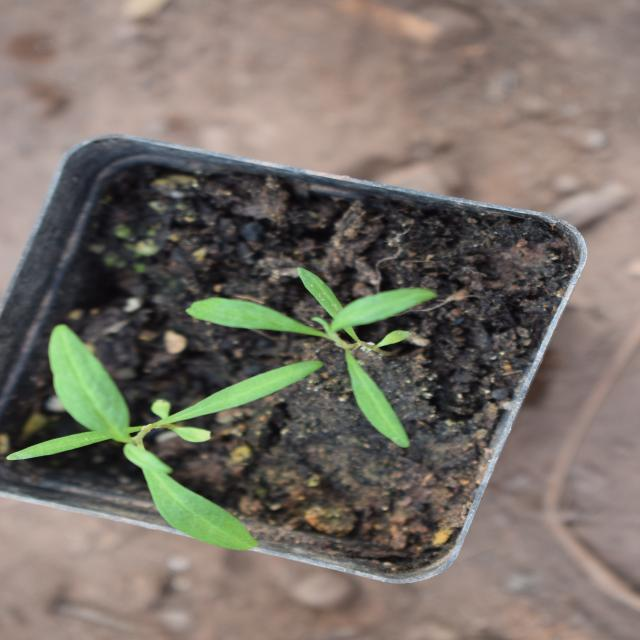white_smart_weed: (74, 26, 318, 316), (195, 181, 371, 430)
